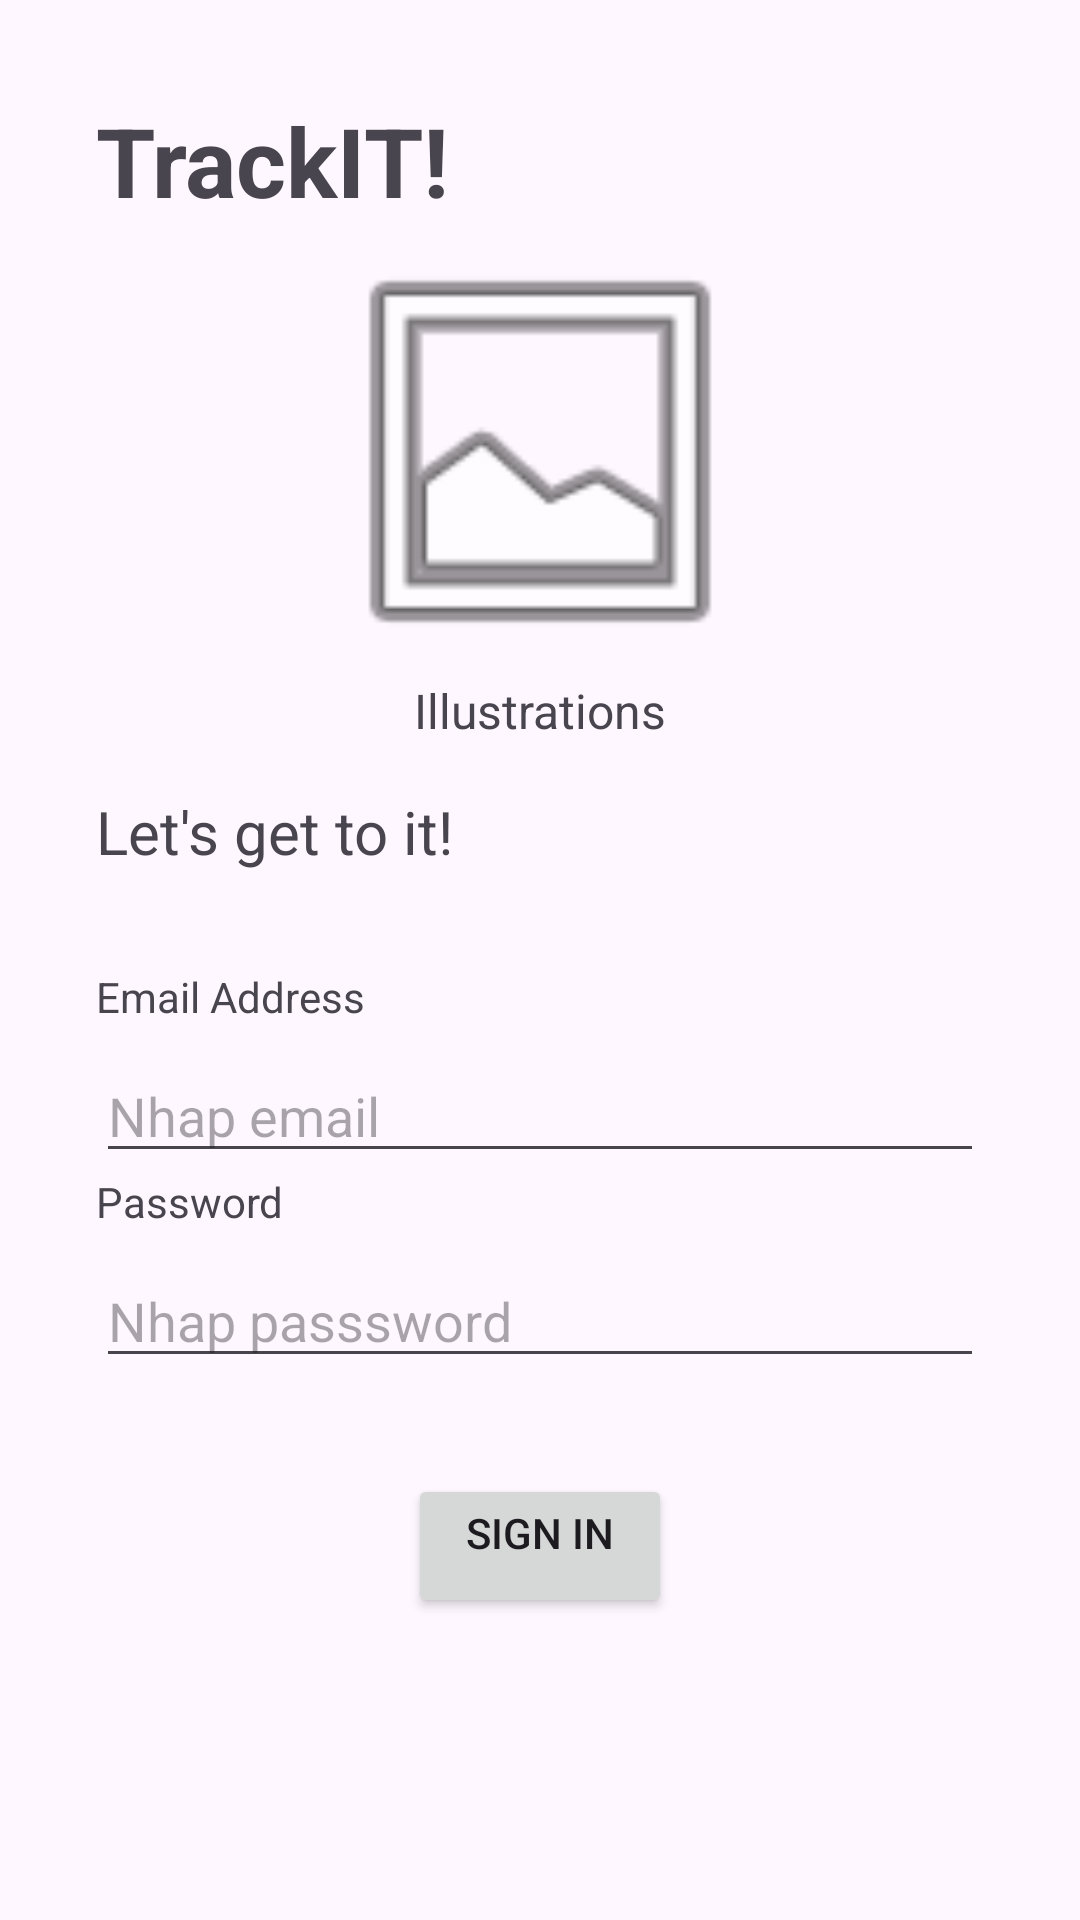

Icon bounding boxes for this 1080 × 1920 phone screenshot, format (x1, y1, x2, y2):
gallery: (369, 280, 711, 623)
